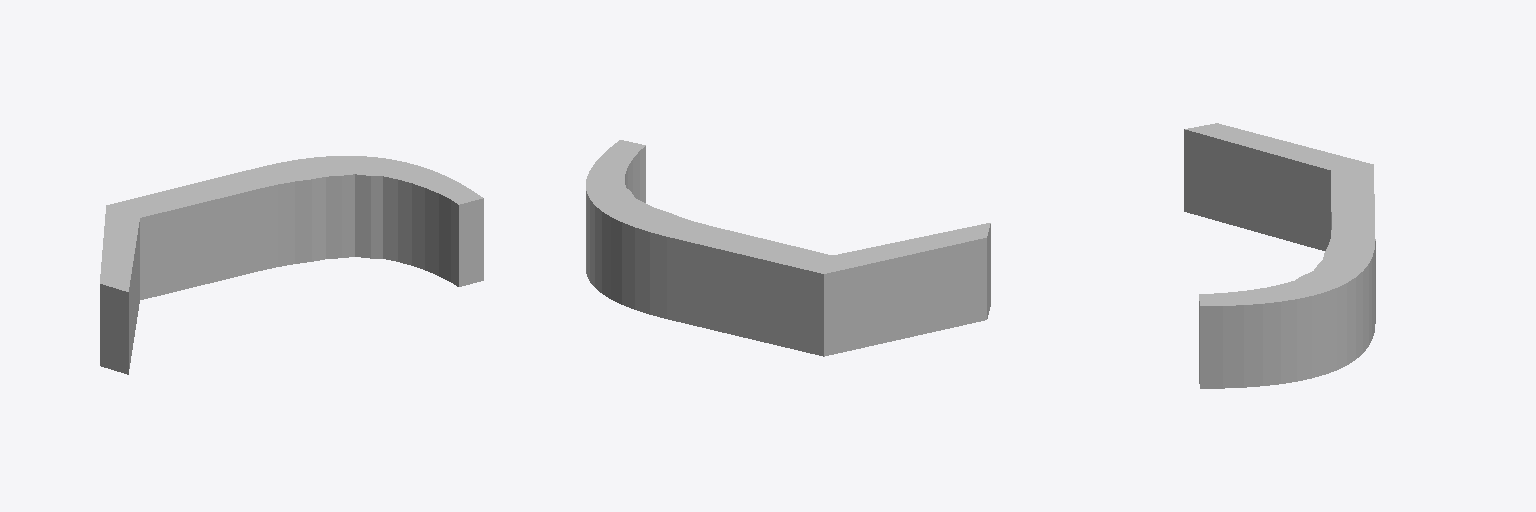
The model's file is 左カーブ.obj.
3 views of the same model, side by side, from view 1: azimuth 30°, elevation 25°; view 2: azimuth 150°, elevation 25°; view 3: azimuth 270°, elevation 25° (orthographic).
Parts seen in each view (by area): view 1: Box005; view 2: Box005; view 3: Box005.
Boxes of the visible parts, box(x1,y1,x2,y2) form: Box005: box(100, 156, 483, 374); Box005: box(586, 140, 990, 356); Box005: box(1184, 123, 1375, 388).
Size of the model in its own units: 48.84 by 10.26 by 21.52.